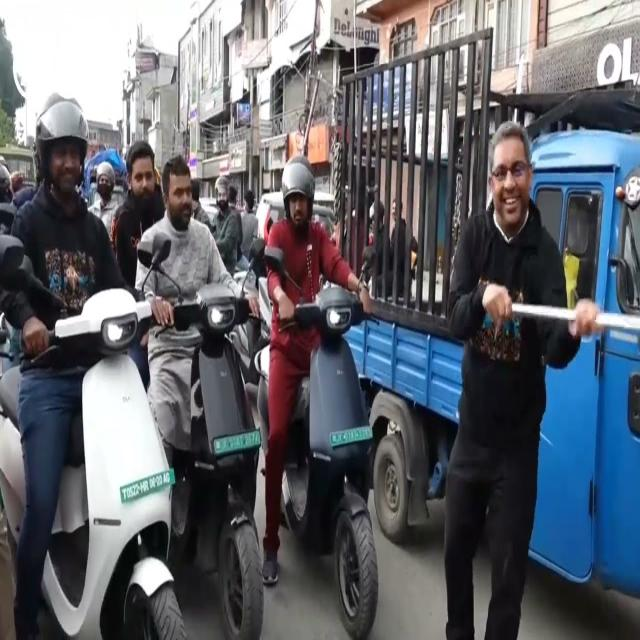motorcycle: (0, 96, 185, 639), (135, 156, 264, 638), (256, 158, 378, 638)
truck: (341, 29, 640, 596)
